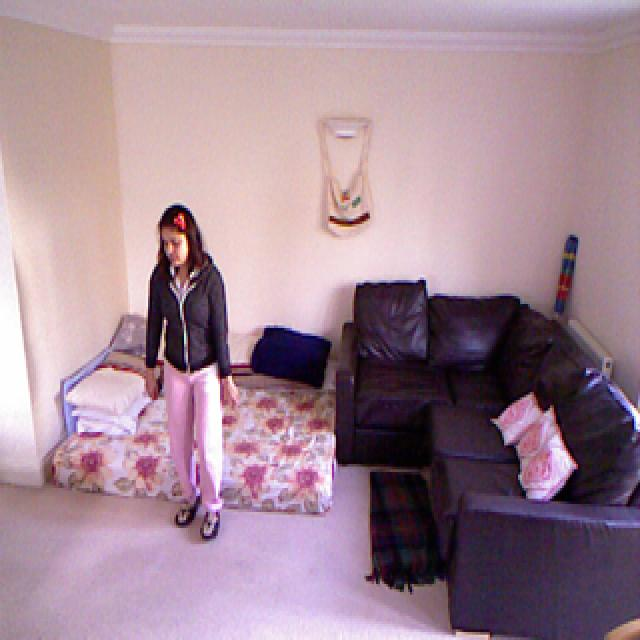standing: (141, 206, 237, 542)
